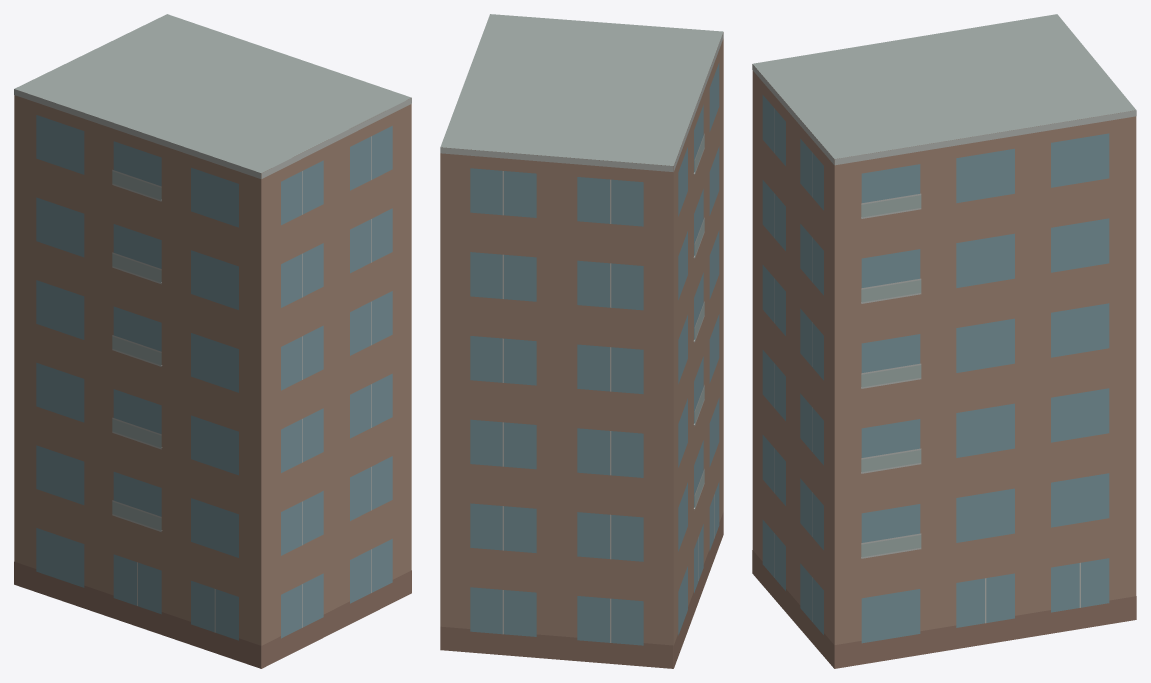
Rendered from survey-upis-32862785.glb.
The picture shows the model from 3 angles, left to right: view 1: azimuth 30°, elevation 25°; view 2: azimuth 150°, elevation 25°; view 3: azimuth 270°, elevation 25°; orthographic projection. The views are drawn at different scales.
Visible parts, largest first — view 1: survey-upis-32862785.tmp; view 2: survey-upis-32862785.tmp; view 3: survey-upis-32862785.tmp.
Part boxes in pixels (bbox=[...]): survey-upis-32862785.tmp: bbox=[14, 14, 411, 668]; survey-upis-32862785.tmp: bbox=[440, 14, 723, 668]; survey-upis-32862785.tmp: bbox=[752, 14, 1136, 668].
Bounding box in the file's own units: 12.29 × 20.1 × 13.74.
